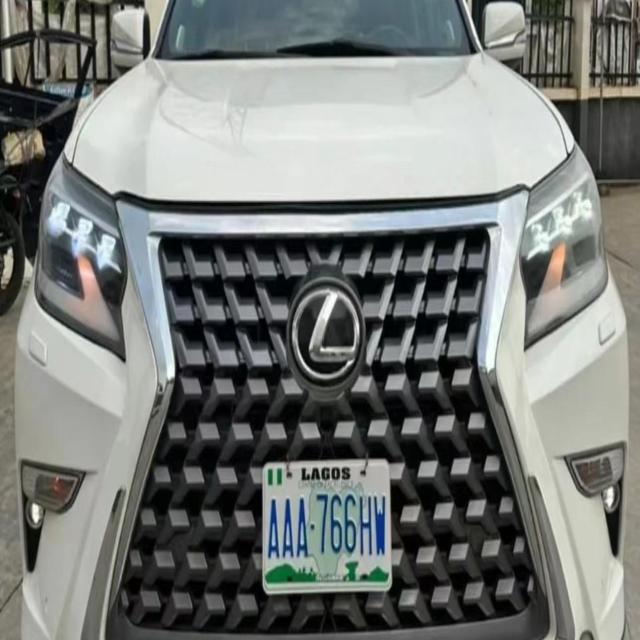Nigerian License Plate - vdataset benjamin-daria: (260, 453, 395, 598)
